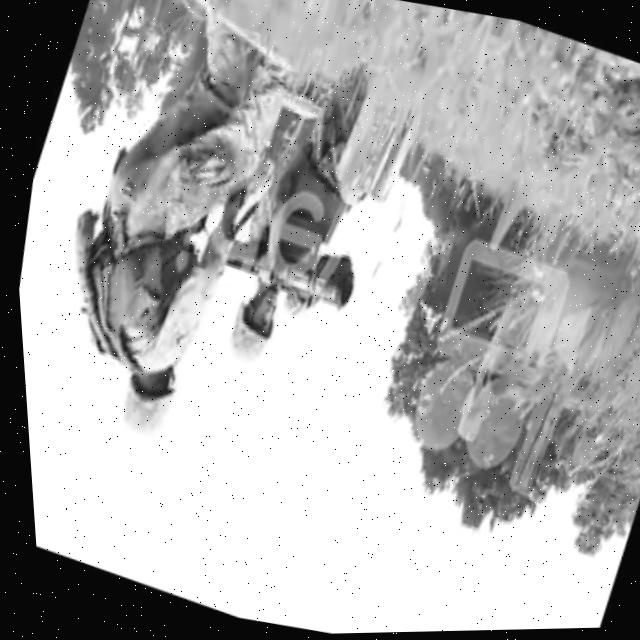rocket: (208, 218, 363, 327)
